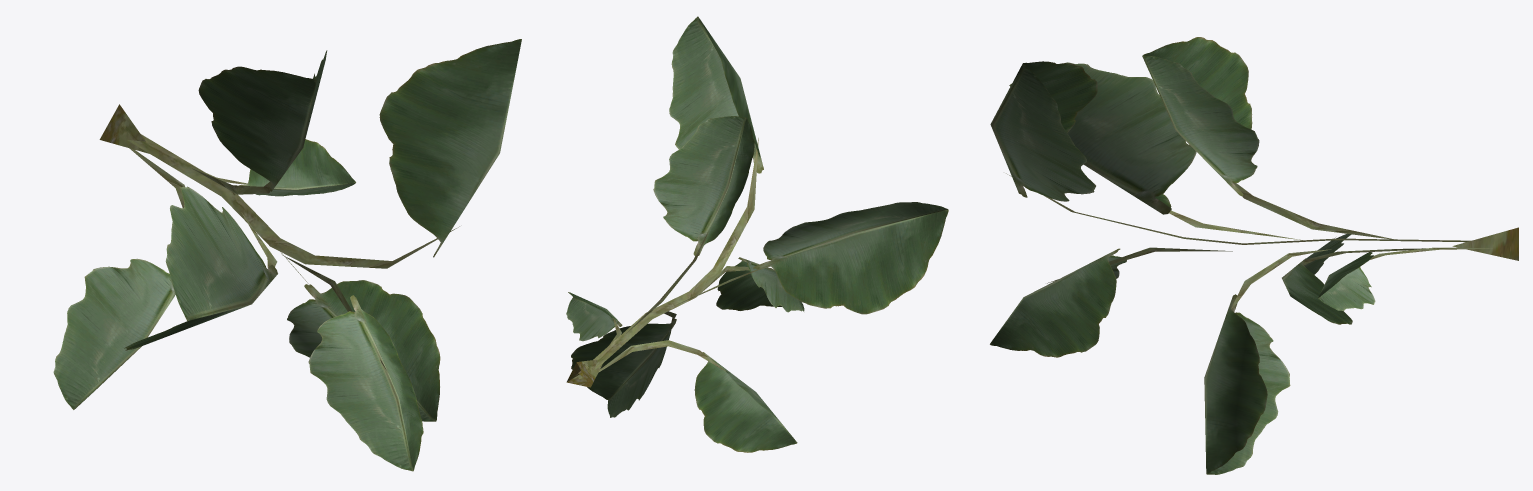
The model's file is com_potted_plant01_LOD2.obj.
3 views of the same model, side by side, from view 1: azimuth 30°, elevation 25°; view 2: azimuth 150°, elevation 25°; view 3: azimuth 270°, elevation 25° (orthographic). The views are drawn at different scales.
Visible parts, largest first — view 1: mtl_potted_plant01; view 2: mtl_potted_plant01; view 3: mtl_potted_plant01.
Boxes of the visible parts, x1=… form: mtl_potted_plant01: x1=53, y1=39, x2=521, y2=471; mtl_potted_plant01: x1=566, y1=16, x2=948, y2=452; mtl_potted_plant01: x1=990, y1=37, x2=1518, y2=474.
Bounding box in the file's own units: 133 × 131 × 151.
